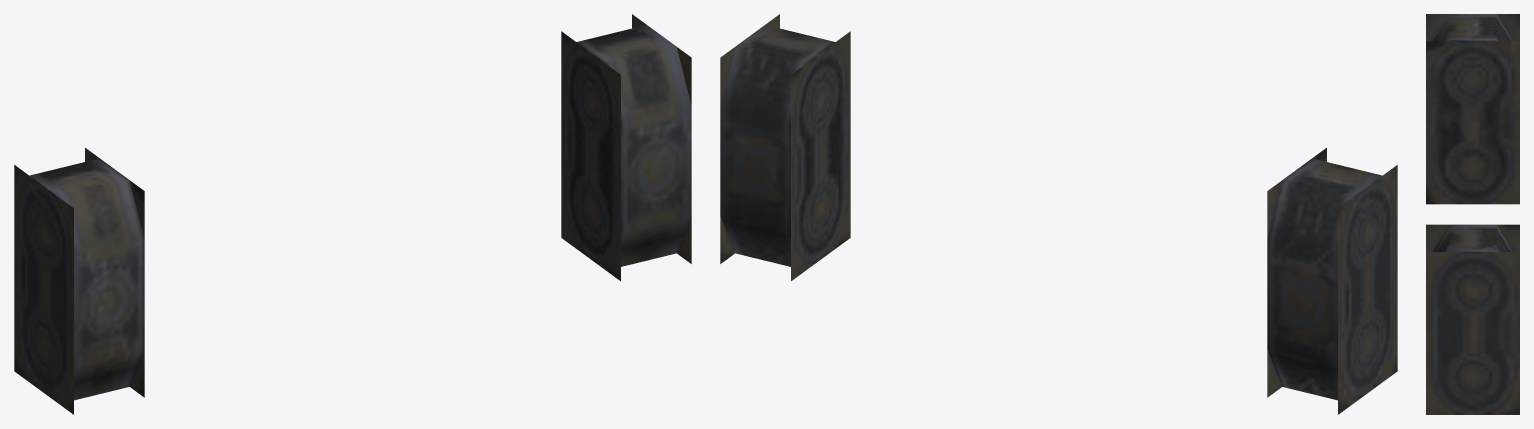
3 renders of one model, left to right at view 1: azimuth 30°, elevation 25°; view 2: azimuth 150°, elevation 25°; view 3: azimuth 270°, elevation 25°, orthographic. The views are drawn at different scales.
Parts seen in each view (by area): view 1: set_0_group_0; view 2: set_0_group_0; view 3: set_0_group_0.
Boxes of the visible parts, x1,y1,x2,y2 form: set_0_group_0: (14,14,691,414); set_0_group_0: (720,14,1397,414); set_0_group_0: (1426,14,1519,414).
Size of the model in its own units: 0.2979 by 0.0953 by 0.0497.
Materials: 1 (1 with a texture image).
